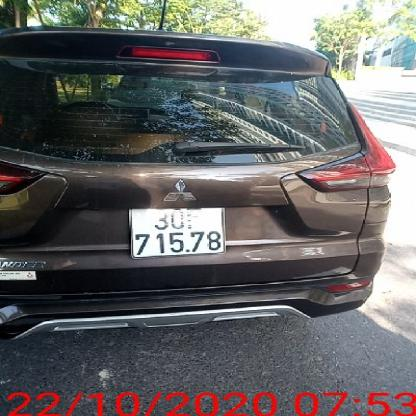biensoxe: (127, 202, 228, 256)
